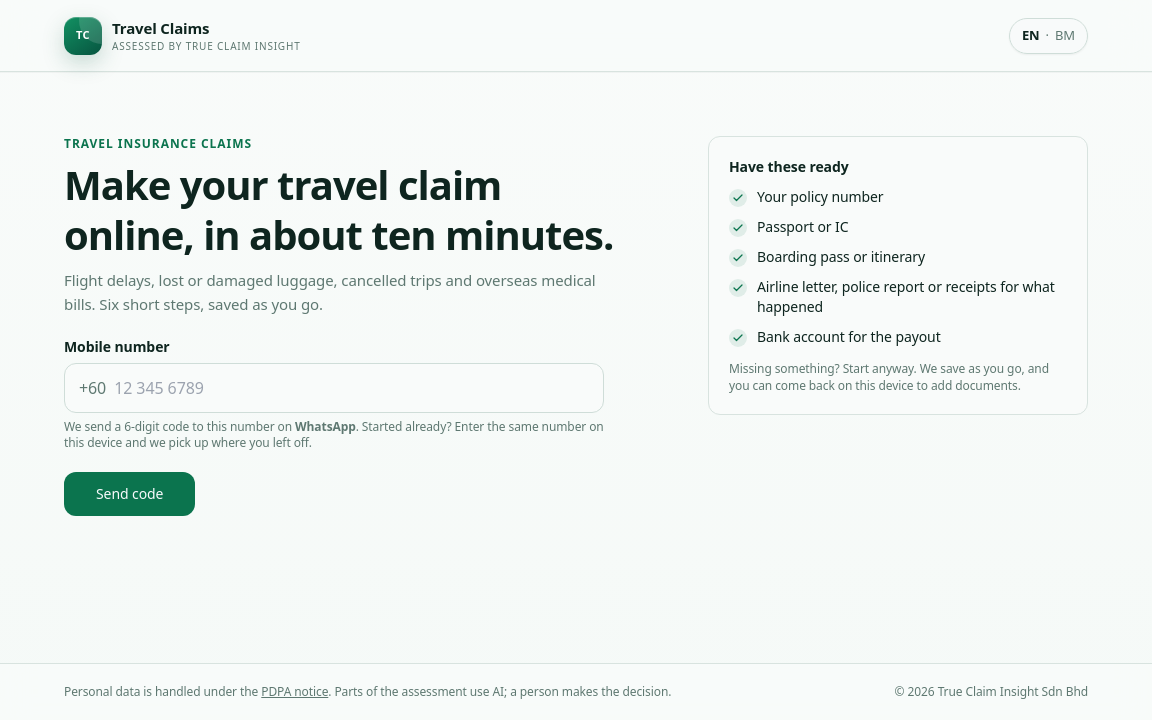
Test: the mobile number field › names the country code instead of silently eating it
This screenshot has width=1152, height=720.
In the field labelled "Mobile number": point(352, 388) top-left (114, 364), bottom-right (589, 412), type "60123456789"
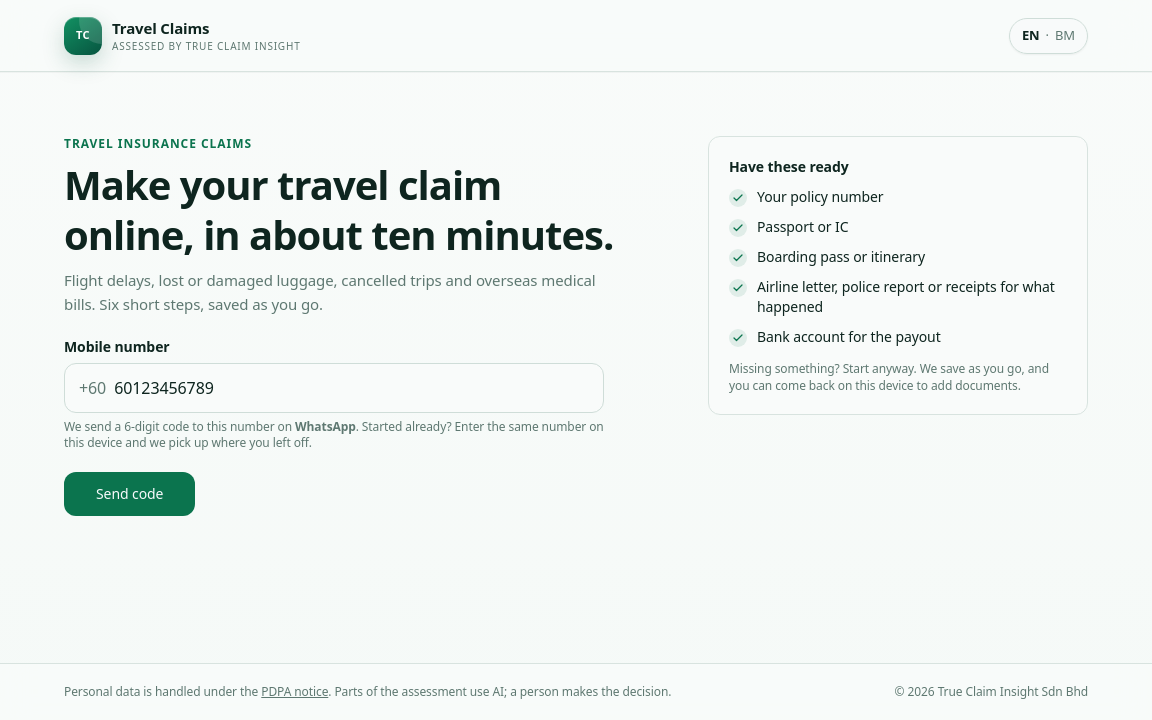
Click the button "Send code": point(130, 494) top-left (64, 472), bottom-right (195, 516)
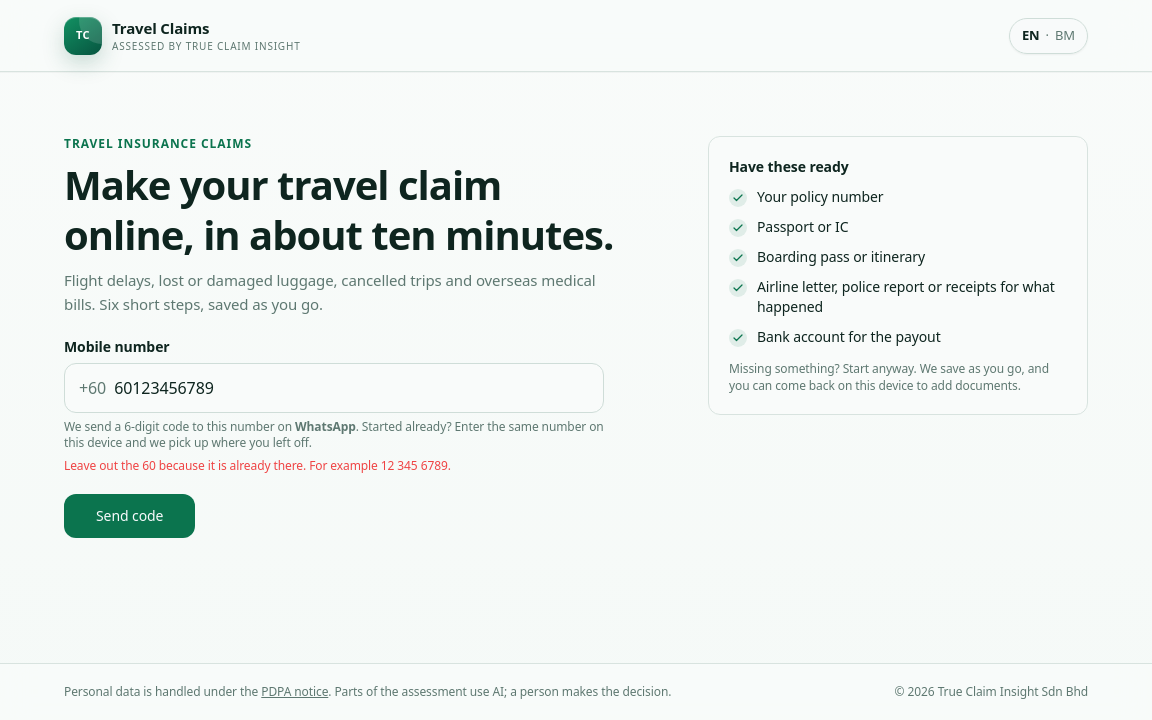
Expected: the message shows "Leave out the 60", top-left (64, 457), bottom-right (451, 474)
